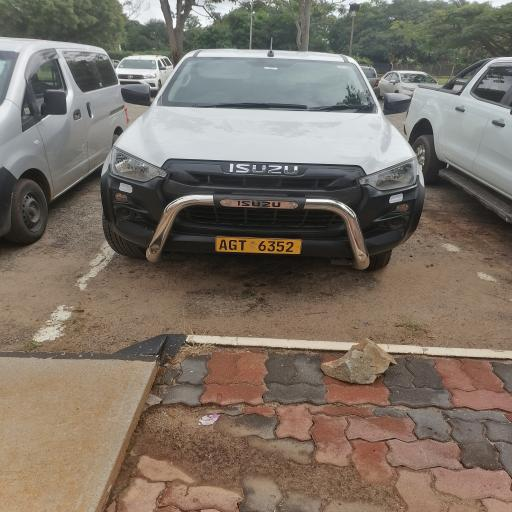number-plates: (215, 231, 305, 257)
